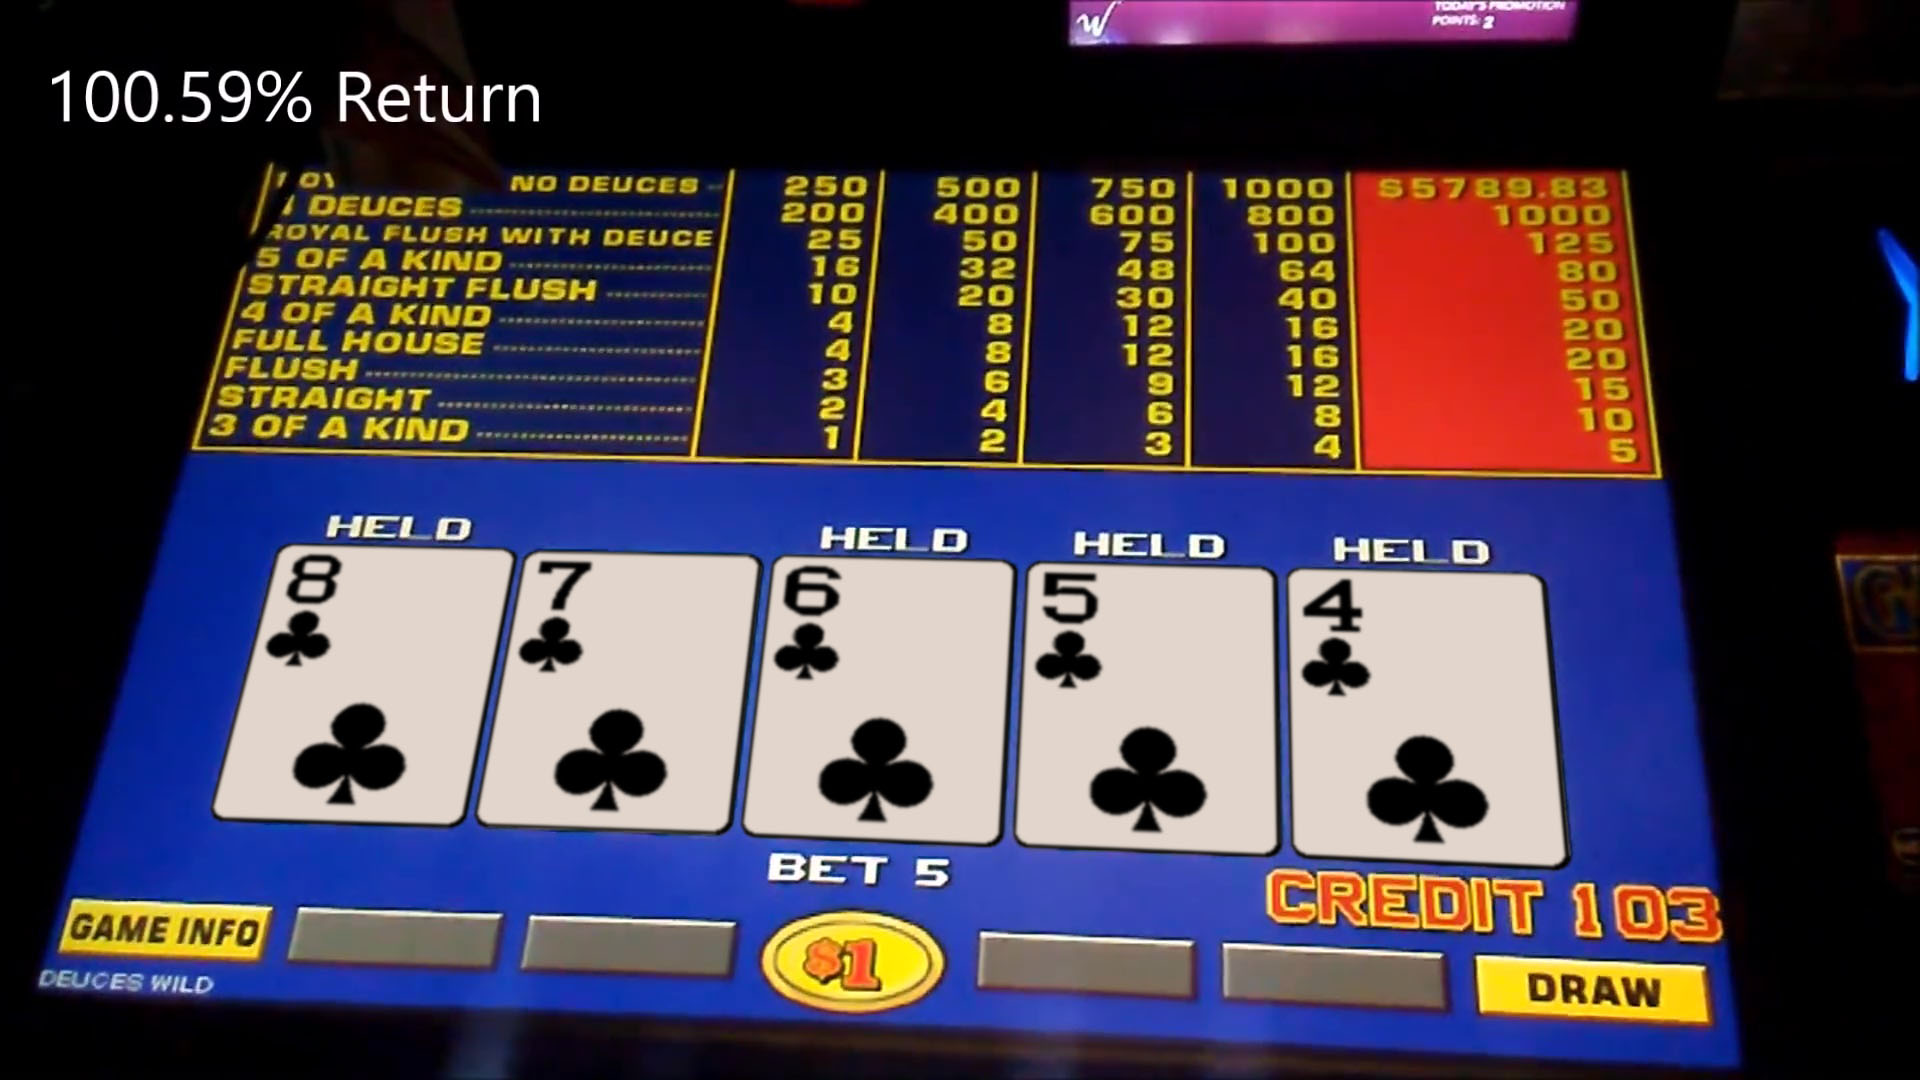C4: (1294, 575, 1540, 707)
C5: (1027, 566, 1270, 704)
C6: (771, 558, 1007, 696)
C7: (520, 553, 745, 688)
C8: (265, 549, 491, 684)
